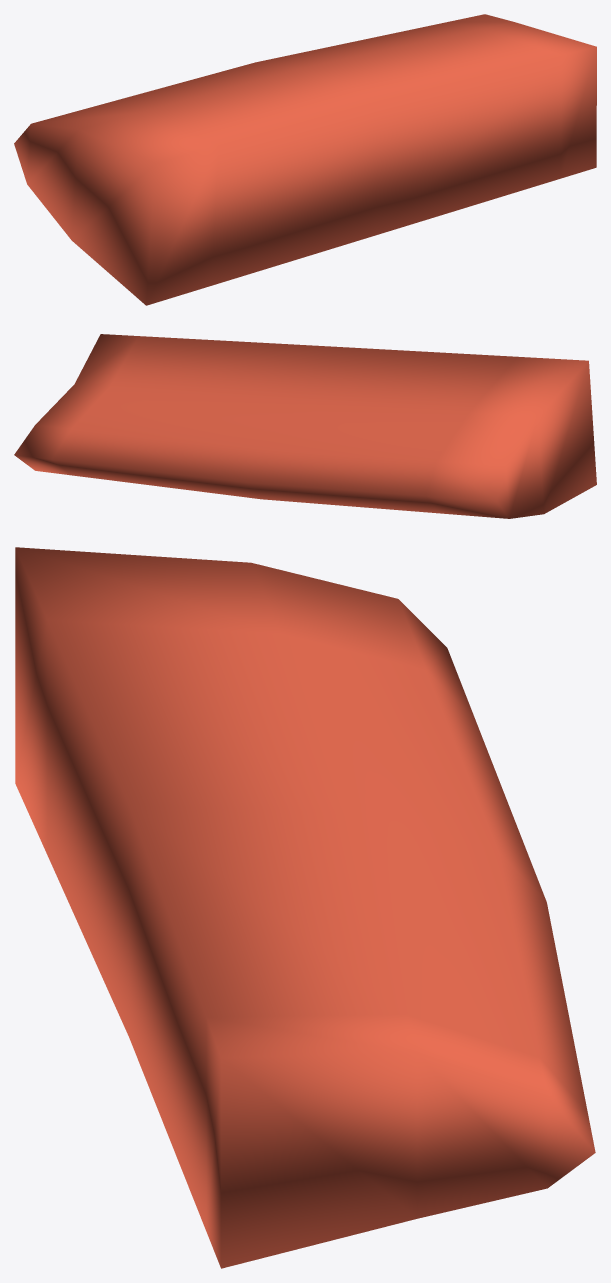
Rendered from flap.glb.
The picture shows the model from 3 angles, top to bottom: view 1: azimuth 30°, elevation 25°; view 2: azimuth 150°, elevation 25°; view 3: azimuth 270°, elevation 25°; orthographic projection. The views are drawn at different scales.
Visible parts, largest first — view 1: Flap; view 2: Flap; view 3: Flap.
Boxes of the visible parts, x1,y1,x2,y2 form: Flap: [14, 14, 596, 305]; Flap: [14, 334, 596, 518]; Flap: [15, 547, 595, 1268].
Size of the model in its own units: 1.58 by 0.492 by 0.8758.
